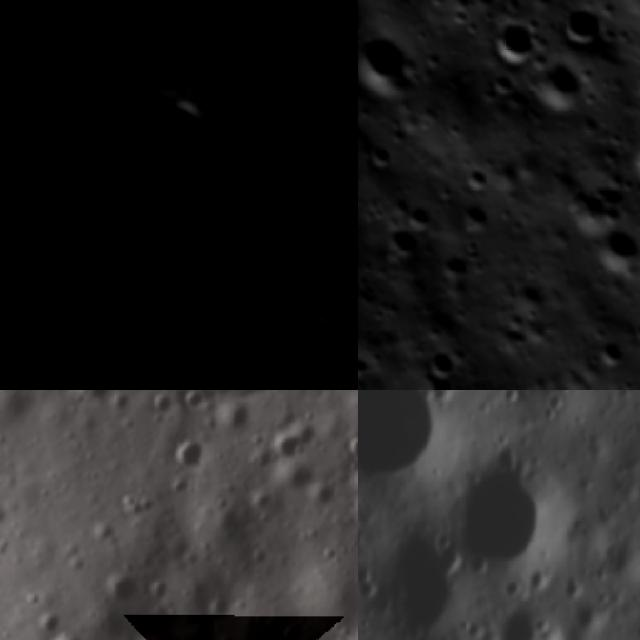crater: (15, 257, 203, 390), (0, 93, 100, 260), (454, 468, 576, 566), (124, 74, 226, 180), (276, 84, 358, 206), (358, 390, 454, 484), (515, 43, 600, 127), (593, 79, 640, 230), (358, 15, 429, 109), (270, 292, 352, 372), (474, 5, 551, 84), (215, 84, 292, 158), (282, 161, 350, 228), (581, 217, 640, 294), (408, 326, 475, 390), (546, 0, 615, 60), (373, 212, 435, 274), (438, 186, 500, 246), (429, 238, 484, 292), (500, 600, 554, 640), (98, 572, 138, 608), (170, 440, 210, 466), (32, 609, 63, 640), (274, 434, 306, 459), (146, 392, 174, 419), (180, 390, 209, 414), (210, 600, 233, 626), (111, 394, 135, 416), (280, 624, 305, 640), (78, 390, 110, 401), (349, 427, 358, 462)
